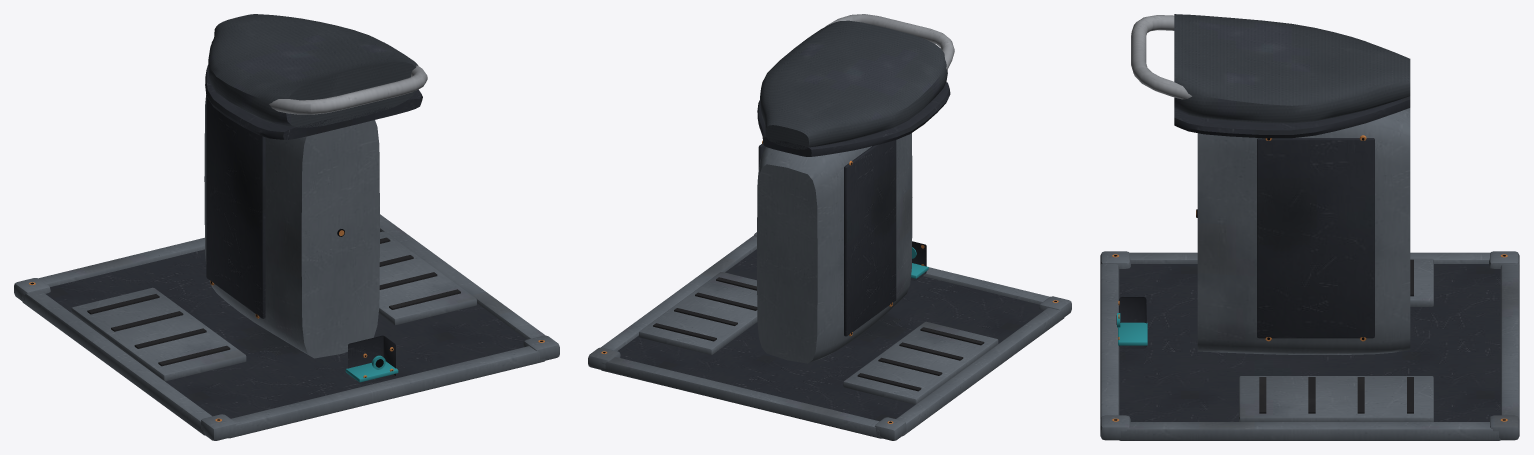
File: saddle_1.glb
The picture shows the model from 3 angles, left to right: view 1: azimuth 30°, elevation 25°; view 2: azimuth 150°, elevation 25°; view 3: azimuth 270°, elevation 25°; orthographic projection. The views are drawn at different scales.
Parts seen in each view (by area): view 1: Base, Cushion, SaddlePan; view 2: Base, Cushion, SaddlePan; view 3: Base, Cushion, SaddlePan.
Boxes of the visible parts, box(x1,y1,x2,y2) form: Base: box(14, 65, 559, 440); Cushion: box(208, 14, 418, 127); SaddlePan: box(205, 41, 422, 139); Base: box(588, 14, 1071, 440); Cushion: box(760, 20, 947, 149); SaddlePan: box(757, 82, 950, 156); Base: box(1100, 15, 1519, 440); Cushion: box(1174, 14, 1410, 123); SaddlePan: box(1174, 96, 1410, 138).
Bounding box in the file's own units: 0.71 × 0.593 × 0.71.
8 materials, 6 textured.
